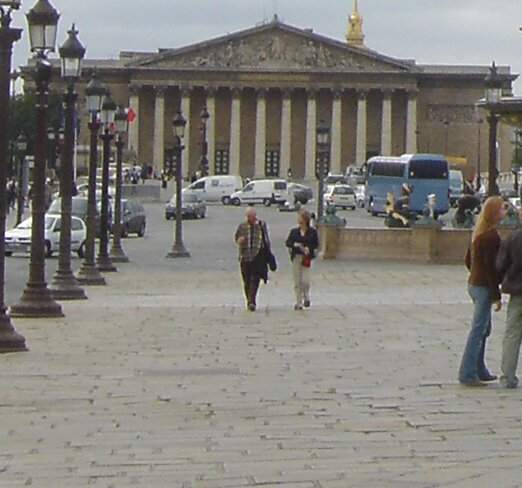person: (460, 193, 507, 385), (284, 205, 329, 311), (234, 206, 280, 306)
